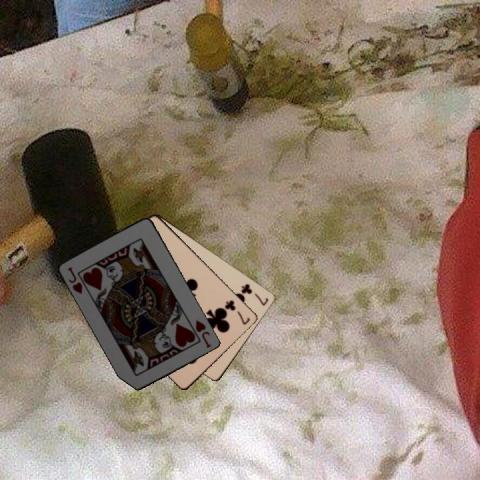7c: (223, 297, 252, 326), (239, 281, 270, 307)
Jh: (193, 317, 213, 349), (64, 264, 84, 295)
